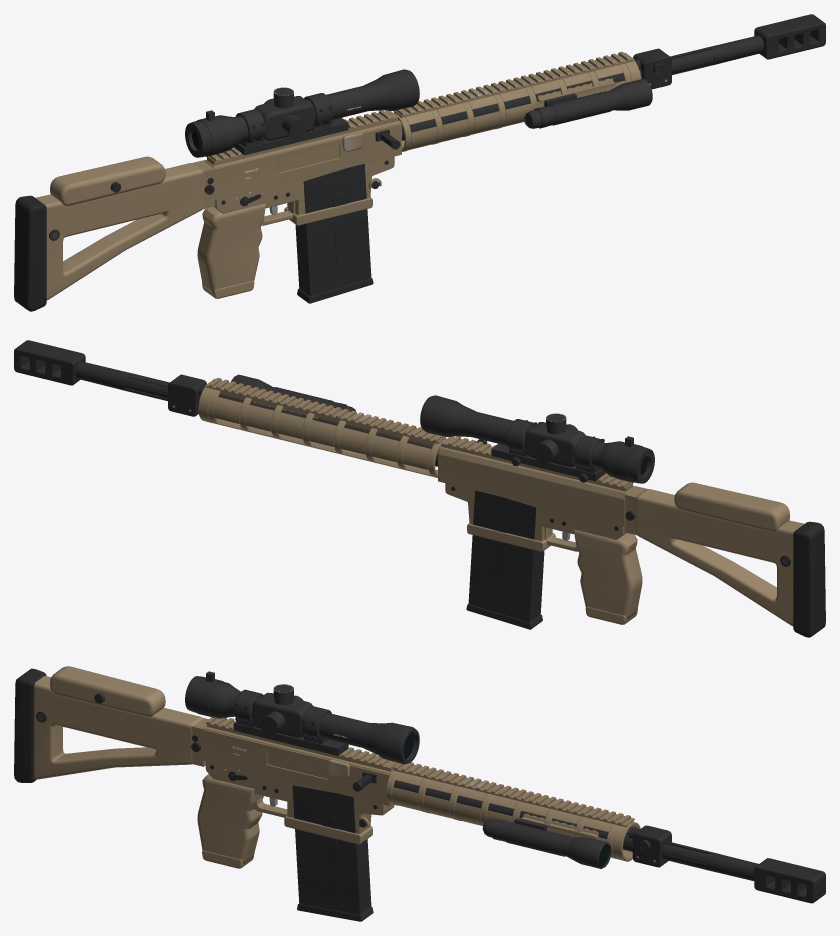
File: dogan.glb
3 renders of one model, top to bottom at view 1: azimuth 30°, elevation 25°; view 2: azimuth 150°, elevation 25°; view 3: azimuth 330°, elevation 25°, orthographic.
Visible parts, largest first — view 1: dipcik, durbun, el_kundagi, ust_govde, sarjor, namlu, kabza, alt_govde, fener; view 2: dipcik, el_kundagi, durbun, ust_govde, sarjor, namlu, kabza, alt_govde, fener; view 3: dipcik, durbun, el_kundagi, sarjor, ust_govde, namlu, kabza, alt_govde, fener.
Boxes of the visible parts, left/top/right/bottom form: dipcik: left=14, top=156, right=215, bottom=311; durbun: left=185, top=69, right=419, bottom=157; el_kundagi: left=393, top=51, right=641, bottom=151; ust_govde: left=204, top=110, right=401, bottom=199; sarjor: left=295, top=164, right=373, bottom=303; namlu: left=402, top=14, right=825, bottom=140; kabza: left=197, top=203, right=265, bottom=298; alt_govde: left=213, top=156, right=394, bottom=225; fener: left=524, top=79, right=652, bottom=128; dipcik: left=624, top=482, right=825, bottom=637; el_kundagi: left=198, top=377, right=446, bottom=477; durbun: left=420, top=395, right=654, bottom=483; ust_govde: left=438, top=436, right=635, bottom=526; sarjor: left=466, top=490, right=544, bottom=629; namlu: left=14, top=340, right=438, bottom=466; kabza: left=574, top=529, right=642, bottom=624; alt_govde: left=445, top=483, right=626, bottom=551; fener: left=230, top=374, right=356, bottom=413; dipcik: left=14, top=666, right=208, bottom=782; durbun: left=185, top=671, right=419, bottom=764; el_kundagi: left=386, top=762, right=640, bottom=861; sarjor: left=292, top=785, right=373, bottom=921; ust_govde: left=203, top=717, right=397, bottom=806; namlu: left=393, top=780, right=825, bottom=903; kabza: left=197, top=774, right=263, bottom=868; alt_govde: left=205, top=761, right=394, bottom=844; fener: left=482, top=818, right=611, bottom=868.
Size of the model in its own units: 1.07 by 0.2716 by 0.0939.
